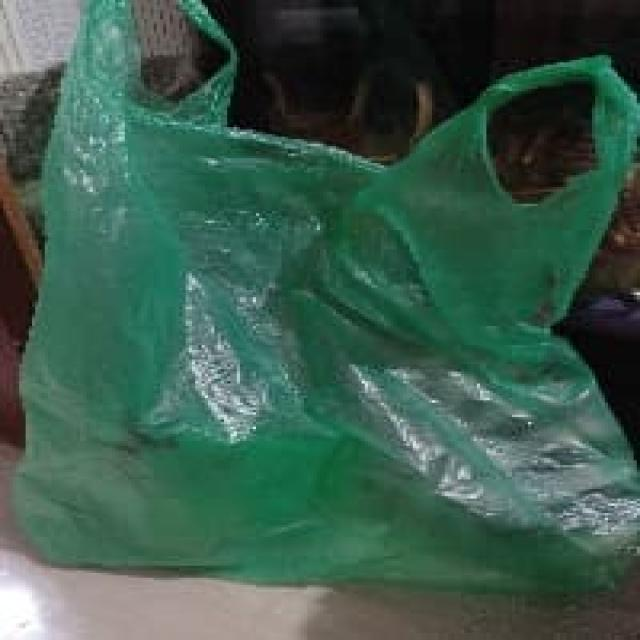Plastik: (15, 0, 637, 593)
